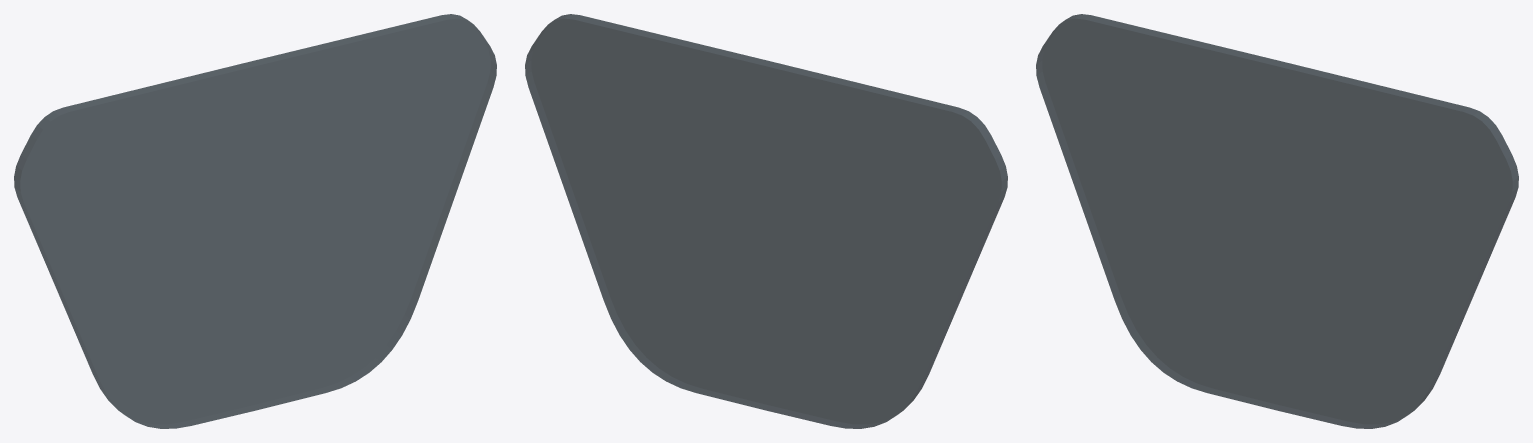
The model's file is Maglev_Track04_a3128c38.fbx.
3 renders of one model, left to right at view 1: azimuth 30°, elevation 25°; view 2: azimuth 150°, elevation 25°; view 3: azimuth 330°, elevation 25°, orthographic.
Visible parts, largest first — view 1: Maglev_Track04; view 2: Maglev_Track04; view 3: Maglev_Track04.
Boxes of the visible parts, bbox=[...] form: Maglev_Track04: bbox=[14, 14, 496, 428]; Maglev_Track04: bbox=[525, 14, 1007, 428]; Maglev_Track04: bbox=[1036, 14, 1518, 428].
Size of what is drawn, in the model's own units: 611 by 13.66 by 422.
